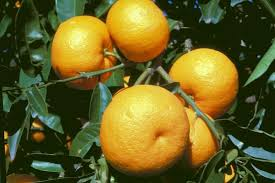orange: (99, 87, 189, 178), (166, 45, 239, 118), (48, 20, 113, 88), (104, 1, 171, 61), (169, 104, 231, 166)
